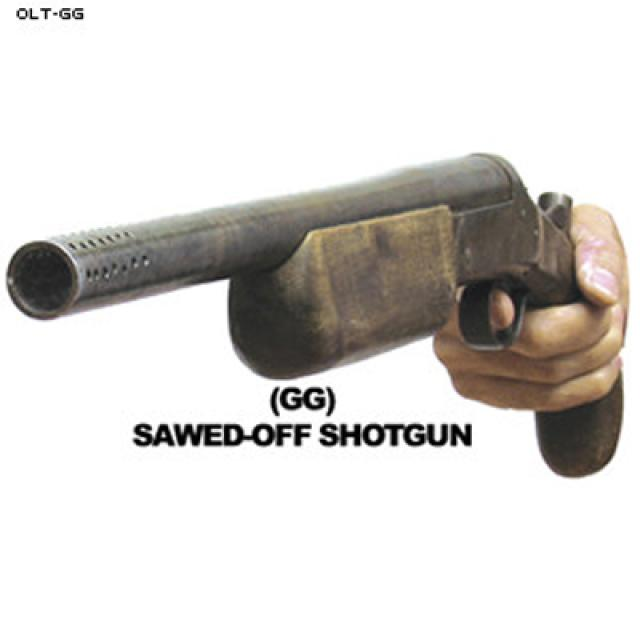ShotGun: (6, 152, 630, 478)
